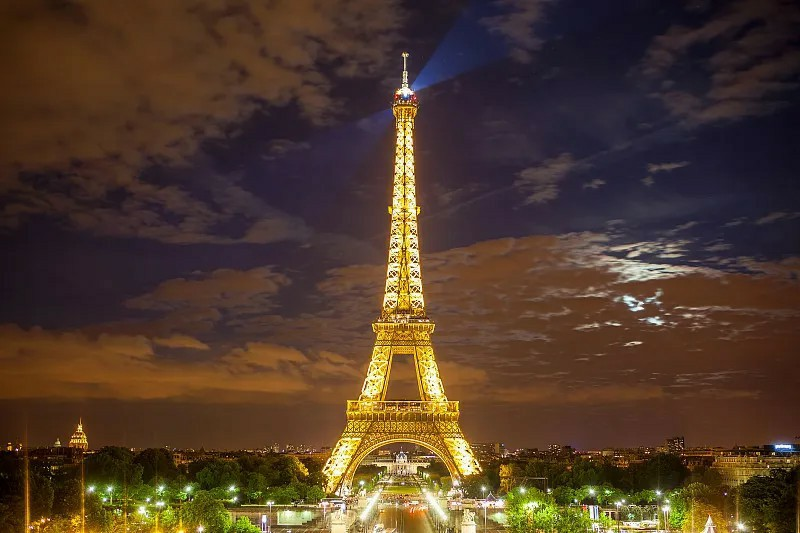Eiffel: (320, 51, 483, 495)
